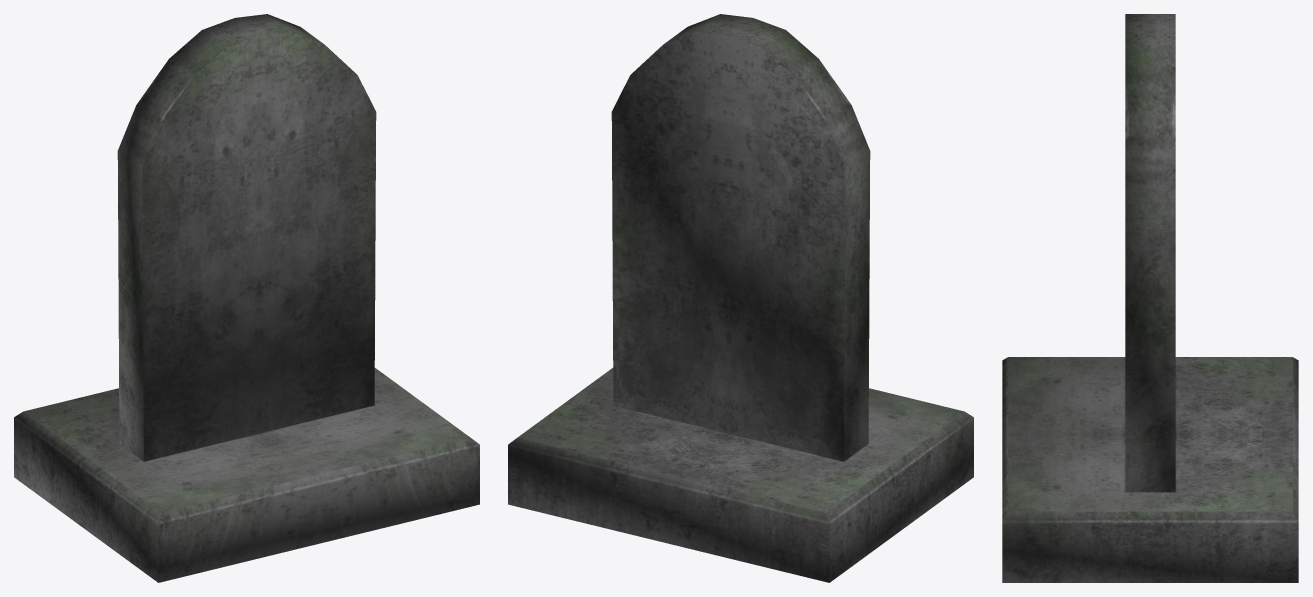
File: Grave.fbx
3 views of the same model, side by side, from view 1: azimuth 30°, elevation 25°; view 2: azimuth 150°, elevation 25°; view 3: azimuth 270°, elevation 25° (orthographic). The views are drawn at different scales.
Visible parts, largest first — view 1: defaultMaterial.002; view 2: defaultMaterial.002; view 3: defaultMaterial.002.
Boxes of the visible parts, bbox=[...] form: defaultMaterial.002: bbox=[14, 14, 479, 582]; defaultMaterial.002: bbox=[508, 14, 973, 582]; defaultMaterial.002: bbox=[1002, 14, 1298, 582].
Bounding box in the file's own units: 65.06 × 89.73 × 50.63.
